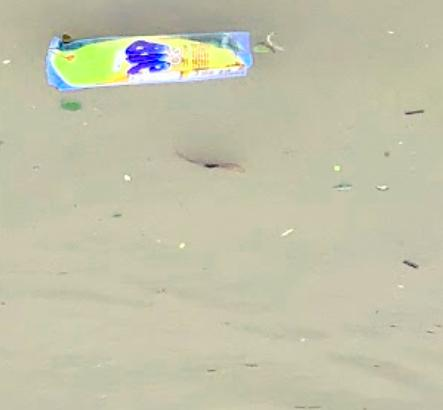Plastic: (41, 29, 254, 94)
